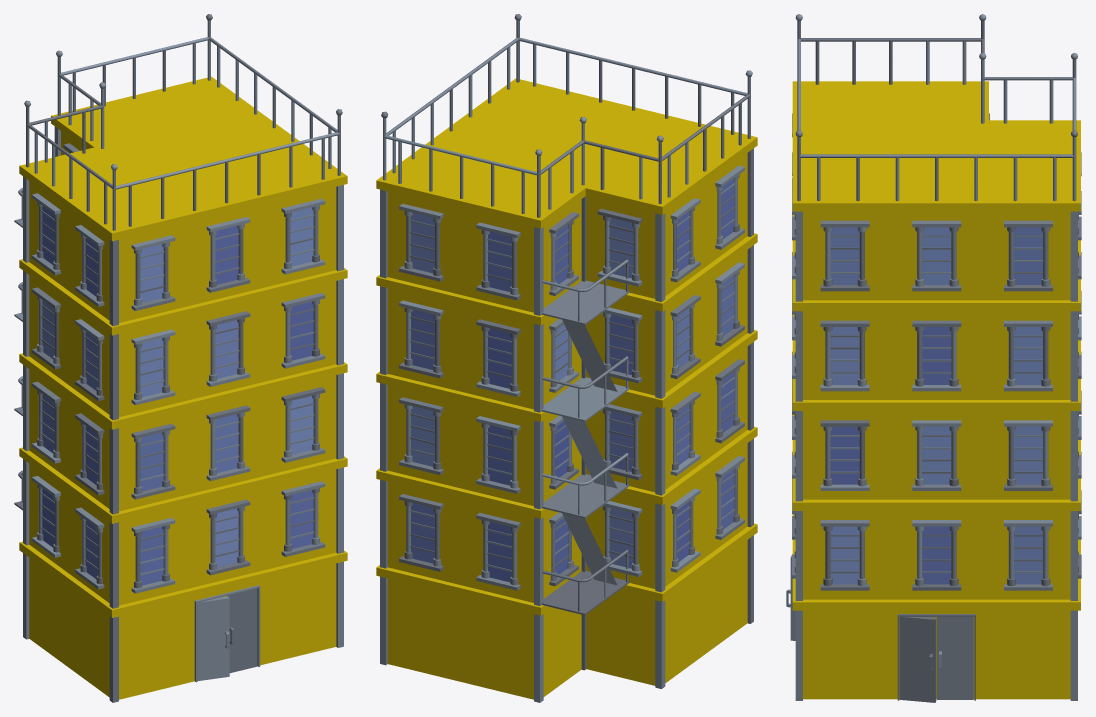
Rendered from Building Procedural.003.fbx.
The picture shows the model from 3 angles, left to right: view 1: azimuth 30°, elevation 25°; view 2: azimuth 150°, elevation 25°; view 3: azimuth 270°, elevation 25°; orthographic projection. The views are drawn at different scales.
Parts seen in each view (by area): view 1: Building Procedural.003; view 2: Building Procedural.003; view 3: Building Procedural.003.
Part boxes in pixels (bbox=[...]): Building Procedural.003: bbox=[14, 14, 347, 702]; Building Procedural.003: bbox=[376, 14, 757, 702]; Building Procedural.003: bbox=[786, 14, 1081, 702].
Size of the model in its own units: 806 by 1710 by 806.
